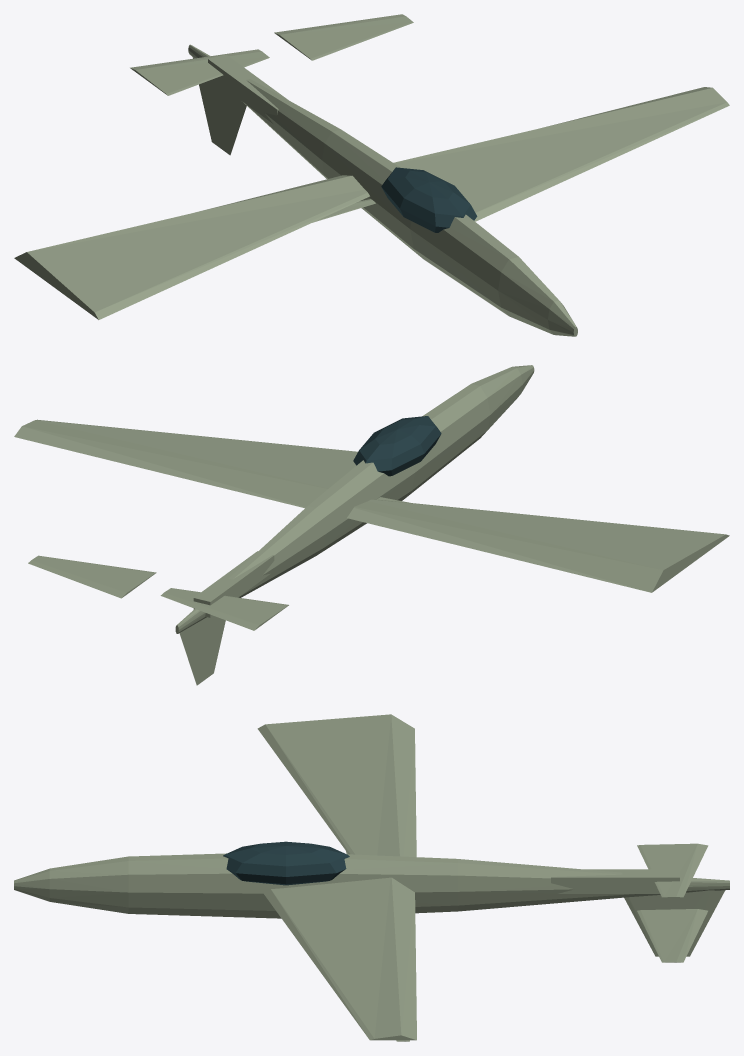
The picture shows the model from 3 angles, top to bottom: view 1: azimuth 30°, elevation 25°; view 2: azimuth 150°, elevation 25°; view 3: azimuth 270°, elevation 25°; orthographic projection. The views are drawn at different scales.
Parts seen in each view (by area): view 1: Wing_L, Fuselage, Wing_R, Cockpit, Elevator_R, Elevator_L, Rudder, TailBoom; view 2: Wing_L, Wing_R, Fuselage, Cockpit, Elevator_R, Elevator_L, Rudder, TailBoom; view 3: Fuselage, Wing_R, Wing_L, Cockpit, Elevator_R, TailBoom, Elevator_L, Rudder.
Part boxes in pixels (x1=…): Wing_L: x1=14, y1=175, x2=369, y2=319; Fuselage: x1=188, y1=44, x2=577, y2=336; Wing_R: x1=393, y1=87, x2=729, y2=221; Cockpit: x1=381, y1=167, x2=477, y2=232; Elevator_R: x1=274, y1=14, x2=413, y2=60; Elevator_L: x1=130, y1=49, x2=269, y2=95; Rudder: x1=193, y1=58, x2=246, y2=155; TailBoom: x1=208, y1=54, x2=287, y2=123; Wing_L: x1=347, y1=499, x2=729, y2=592; Wing_R: x1=14, y1=419, x2=357, y2=508; Fuselage: x1=175, y1=365, x2=534, y2=633; Cockpit: x1=353, y1=416, x2=441, y2=476; Elevator_R: x1=28, y1=555, x2=156, y2=598; Elevator_L: x1=160, y1=588, x2=288, y2=630; Rudder: x1=179, y1=616, x2=225, y2=685; TailBoom: x1=193, y1=551, x2=274, y2=617; Fuselage: x1=14, y1=853, x2=729, y2=918; Wing_R: x1=263, y1=877, x2=416, y2=1040; Wing_L: x1=257, y1=714, x2=416, y2=856; Cockpit: x1=223, y1=841, x2=349, y2=885; Elevator_R: x1=637, y1=909, x2=707, y2=962; TailBoom: x1=551, y1=869, x2=679, y2=893; Elevator_L: x1=637, y1=843, x2=708, y2=897; Rudder: x1=624, y1=890, x2=724, y2=956.
Bounding box in the file's own units: 16.83 × 2.77 × 16.26.
